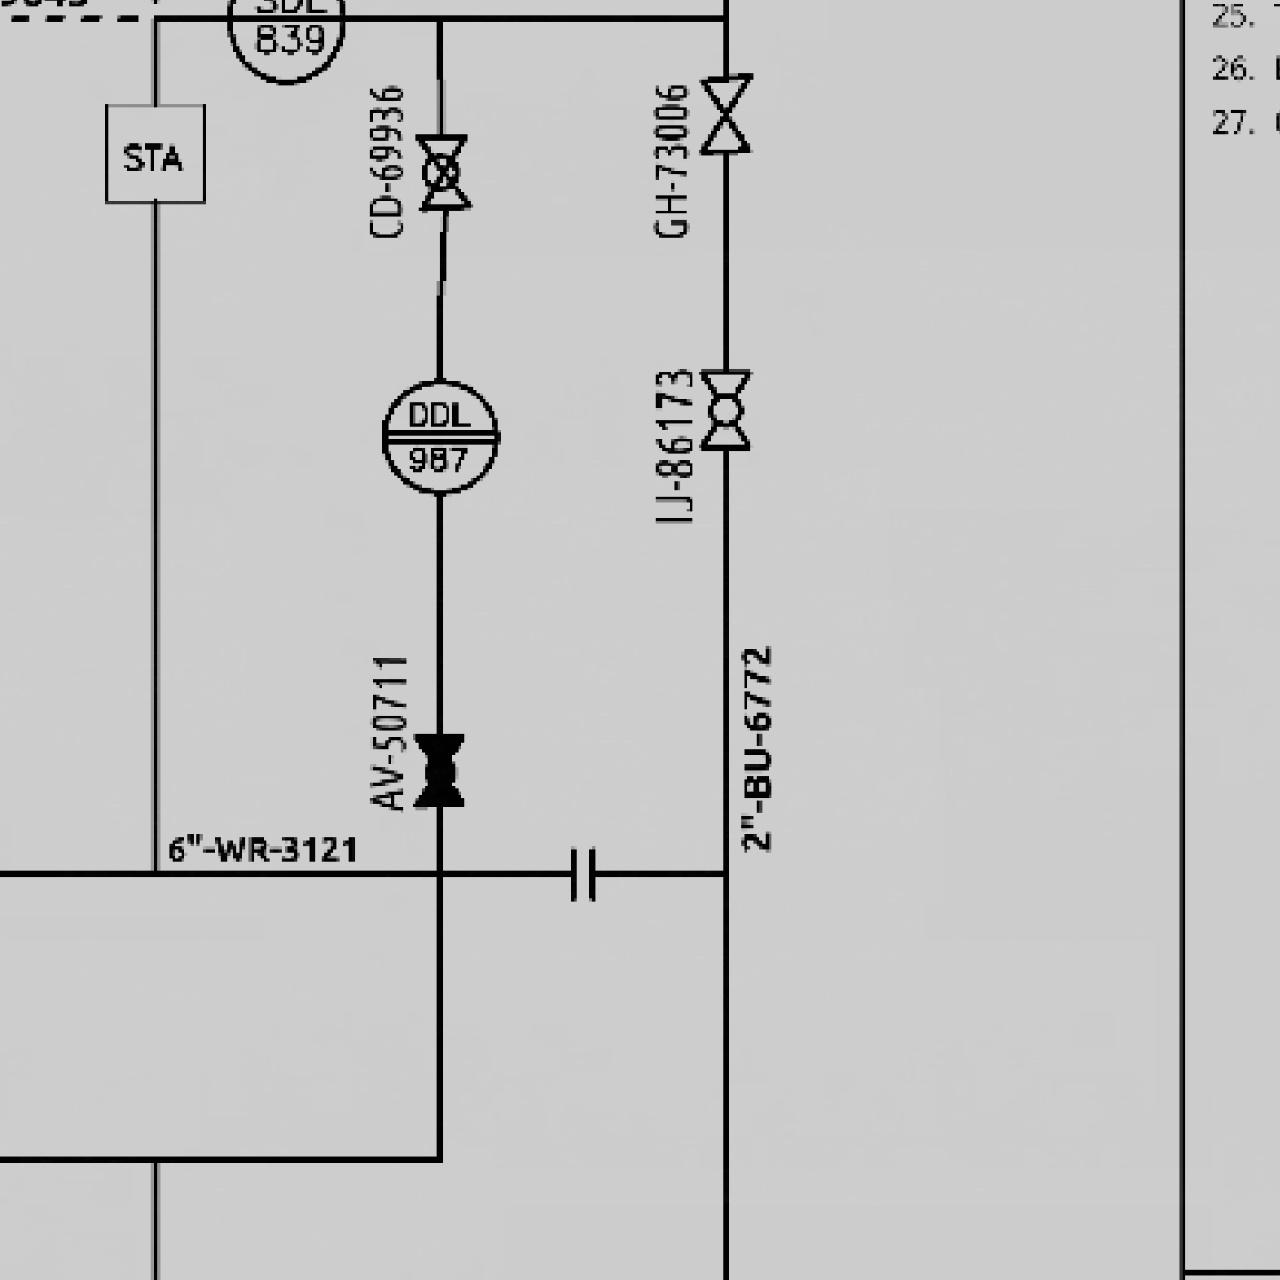Control-Panel: (377, 372, 502, 501)
